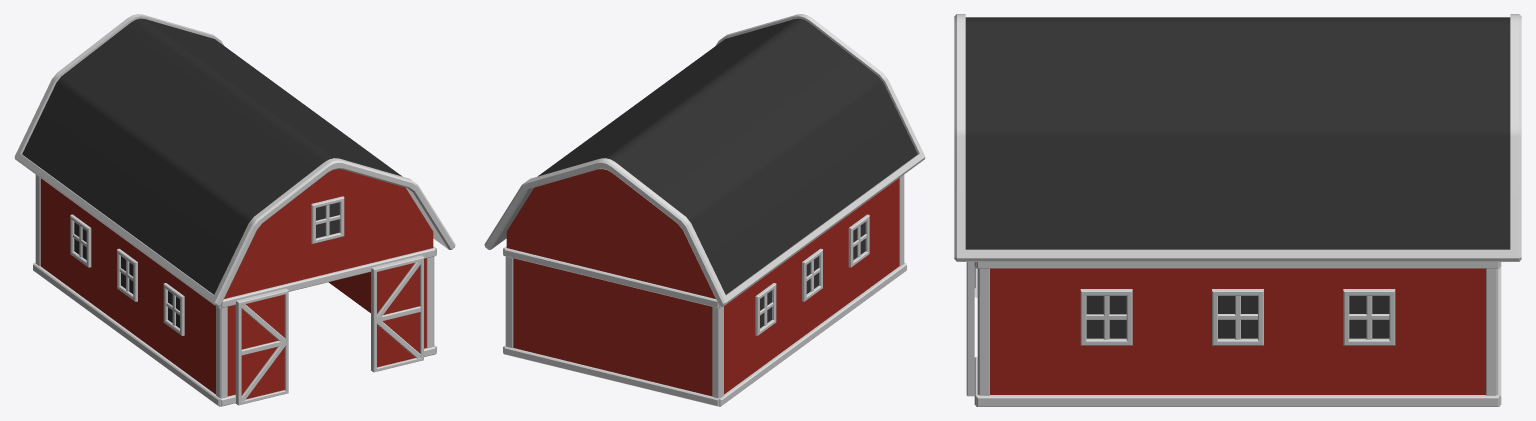
The model's file is Barn.fbx.
The picture shows the model from 3 angles, left to right: view 1: azimuth 30°, elevation 25°; view 2: azimuth 150°, elevation 25°; view 3: azimuth 270°, elevation 25°; orthographic projection. The views are drawn at different scales.
Visible parts, largest first — view 1: Barn; view 2: Barn; view 3: Barn.
Part boxes in pixels (<box>): Barn: <box>14,14,455,406</box>; Barn: <box>484,14,925,406</box>; Barn: <box>954,14,1521,406</box>.
Size of the model in its own units: 22.69 by 20.2 by 32.89.
